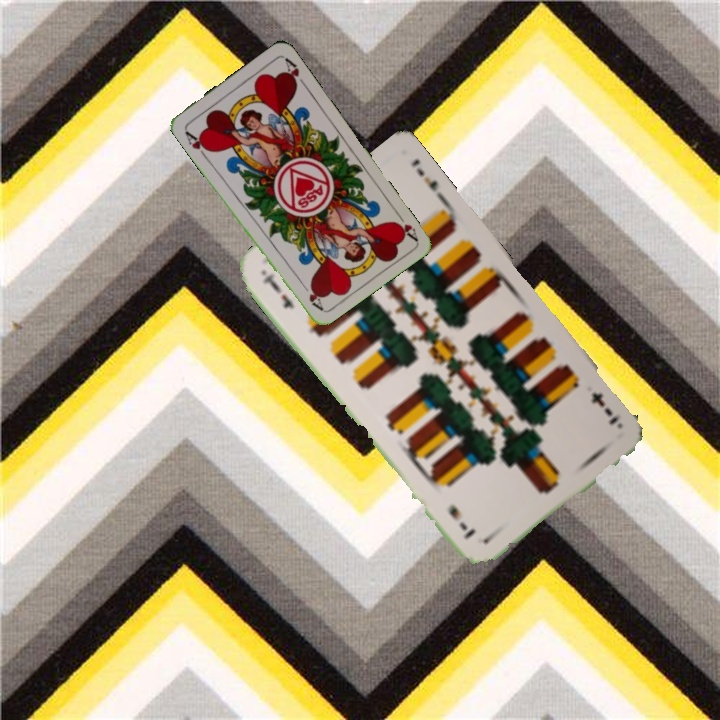E7: (258, 267, 297, 312), (587, 388, 622, 428)
HA: (389, 207, 420, 243), (181, 127, 213, 161)
